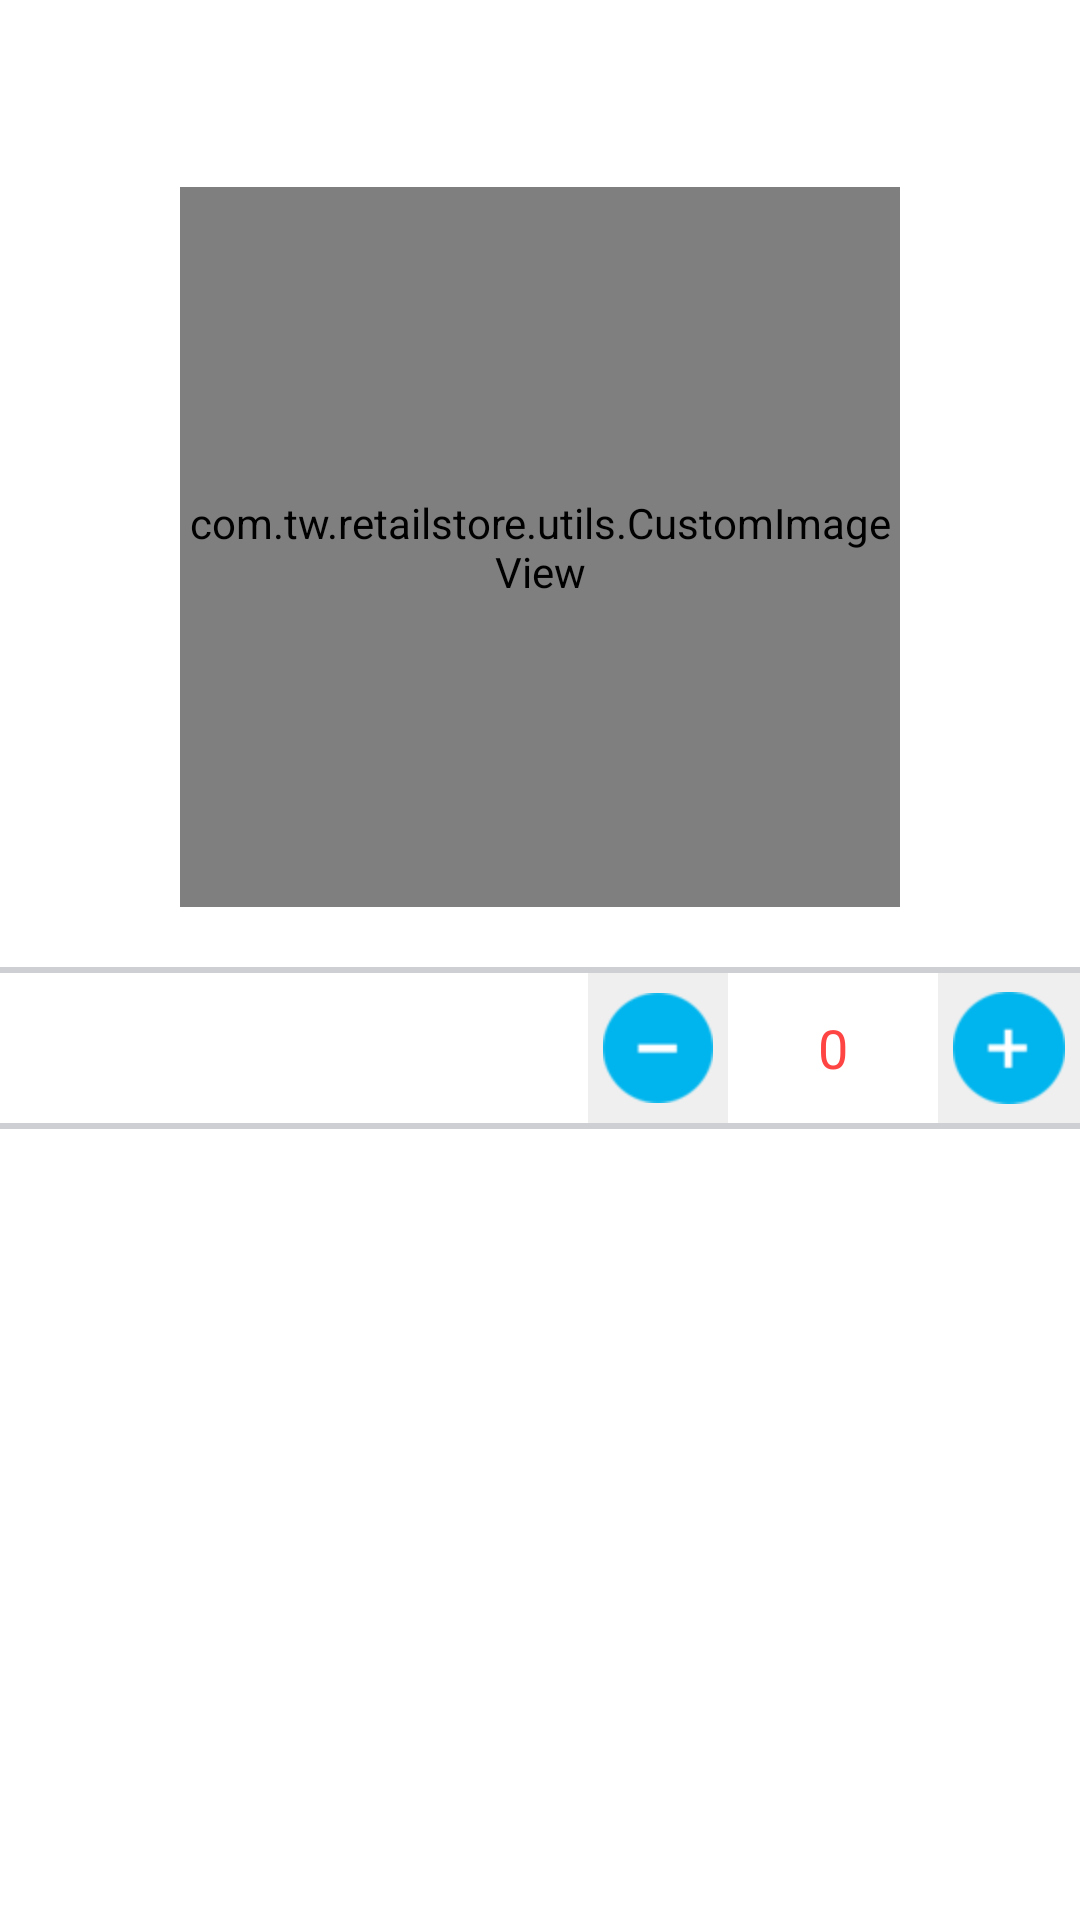

Icons on this 1080px×1920px Android screen, each with the point to tap as point (x, y):
Decrement product: point (658, 1048)
Increment Product: point (1009, 1048)
